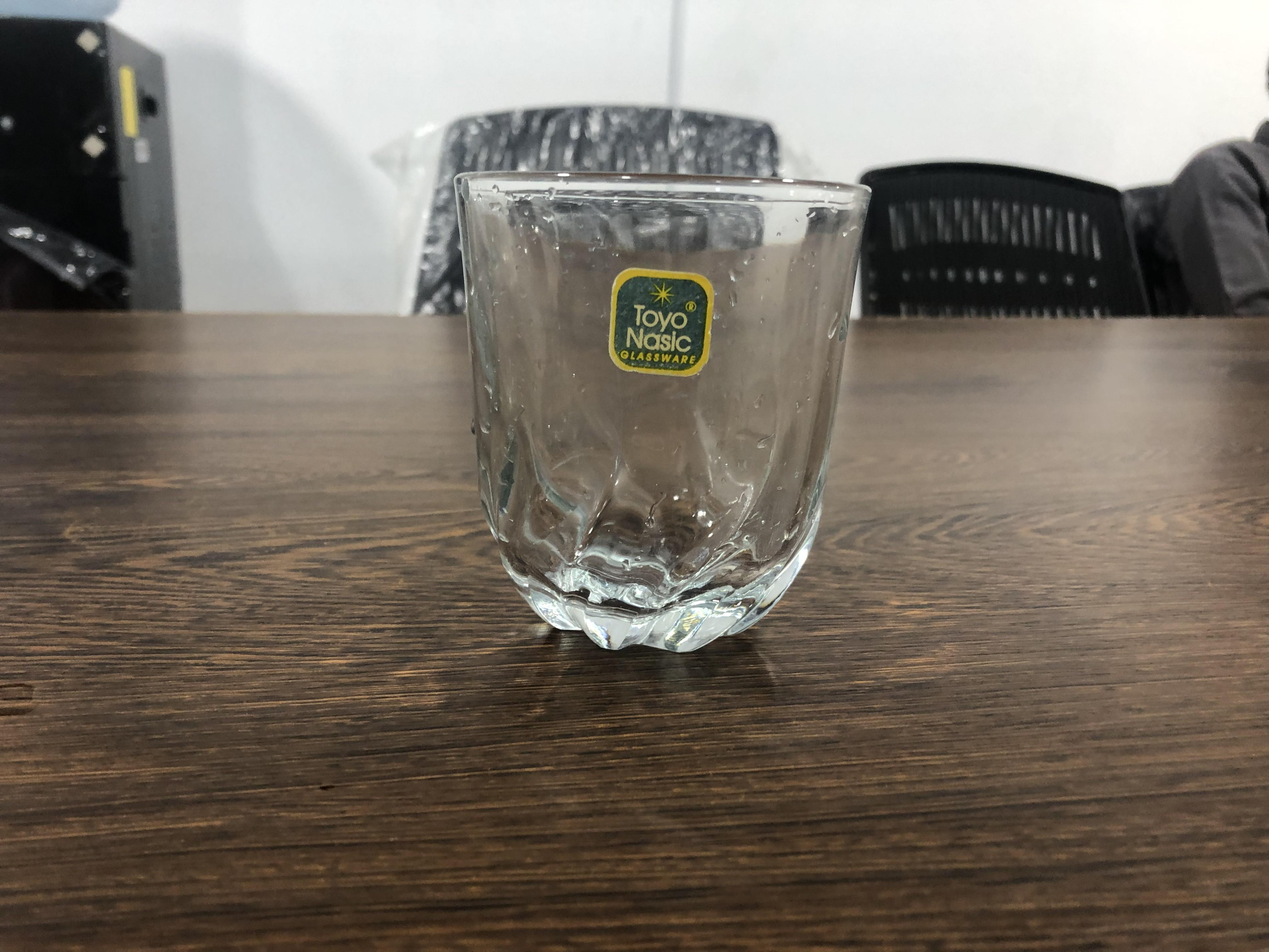glass-normal: (452, 168, 876, 651)
